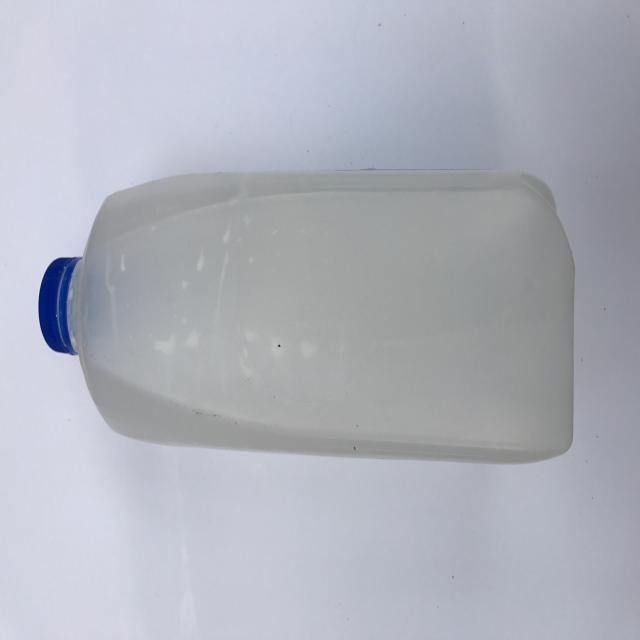plastic: (38, 168, 576, 465)
